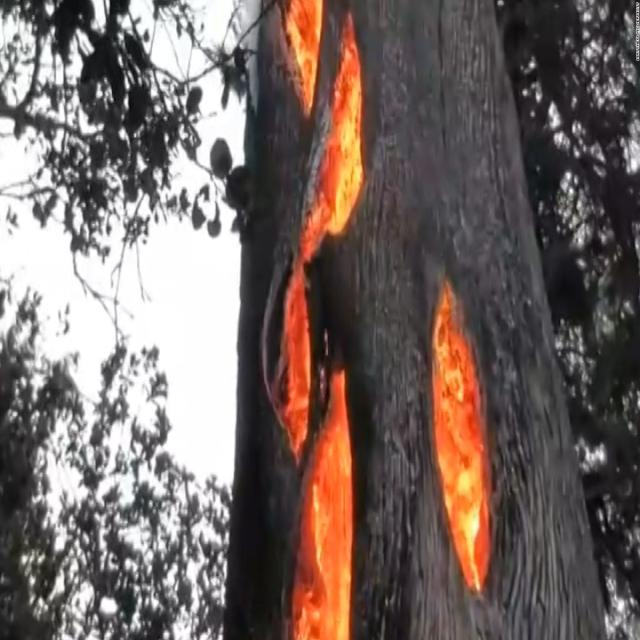Fire: (276, 0, 500, 640)
